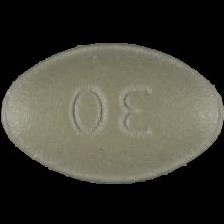54868-5616: (0, 0, 224, 224)
